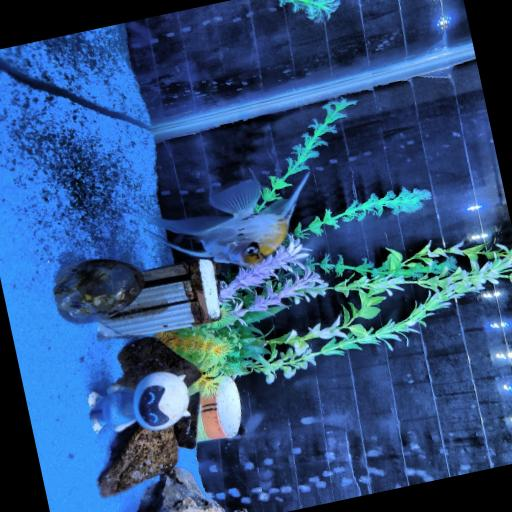Fish: (134, 174, 307, 267)
